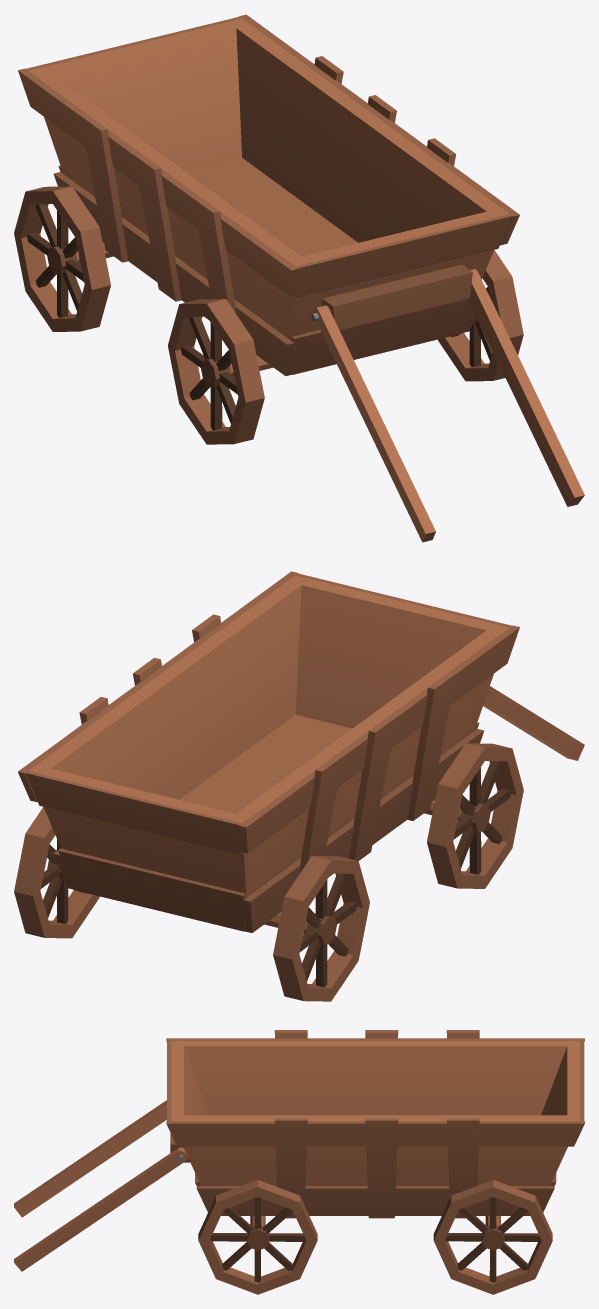
Rendered from cart.fbx.
3 views of the same model, one above another, from view 1: azimuth 30°, elevation 25°; view 2: azimuth 150°, elevation 25°; view 3: azimuth 270°, elevation 25° (orthographic). The views are drawn at different scales.
Parts seen in each view (by area): view 1: cart body, front wheels, rear wheels, trolley handles; view 2: cart body, rear wheels, front wheels, trolley handles; view 3: cart body, front wheels, rear wheels, trolley handles.
Part boxes in pixels (bbox=[...]): cart body: bbox=[18, 14, 519, 376]; front wheels: bbox=[168, 250, 523, 444]; rear wheels: bbox=[14, 186, 110, 331]; trolley handles: bbox=[313, 269, 584, 542]; cart body: bbox=[18, 571, 519, 933]; rear wheels: bbox=[14, 807, 369, 1001]; front wheels: bbox=[427, 743, 523, 888]; trolley handles: bbox=[483, 686, 584, 760]; cart body: bbox=[166, 1030, 584, 1226]; front wheels: bbox=[198, 1180, 317, 1294]; rear wheels: bbox=[433, 1180, 552, 1294]; trolley handles: bbox=[14, 1100, 187, 1271].
Size of the model in its own units: 134 by 101 by 312.
